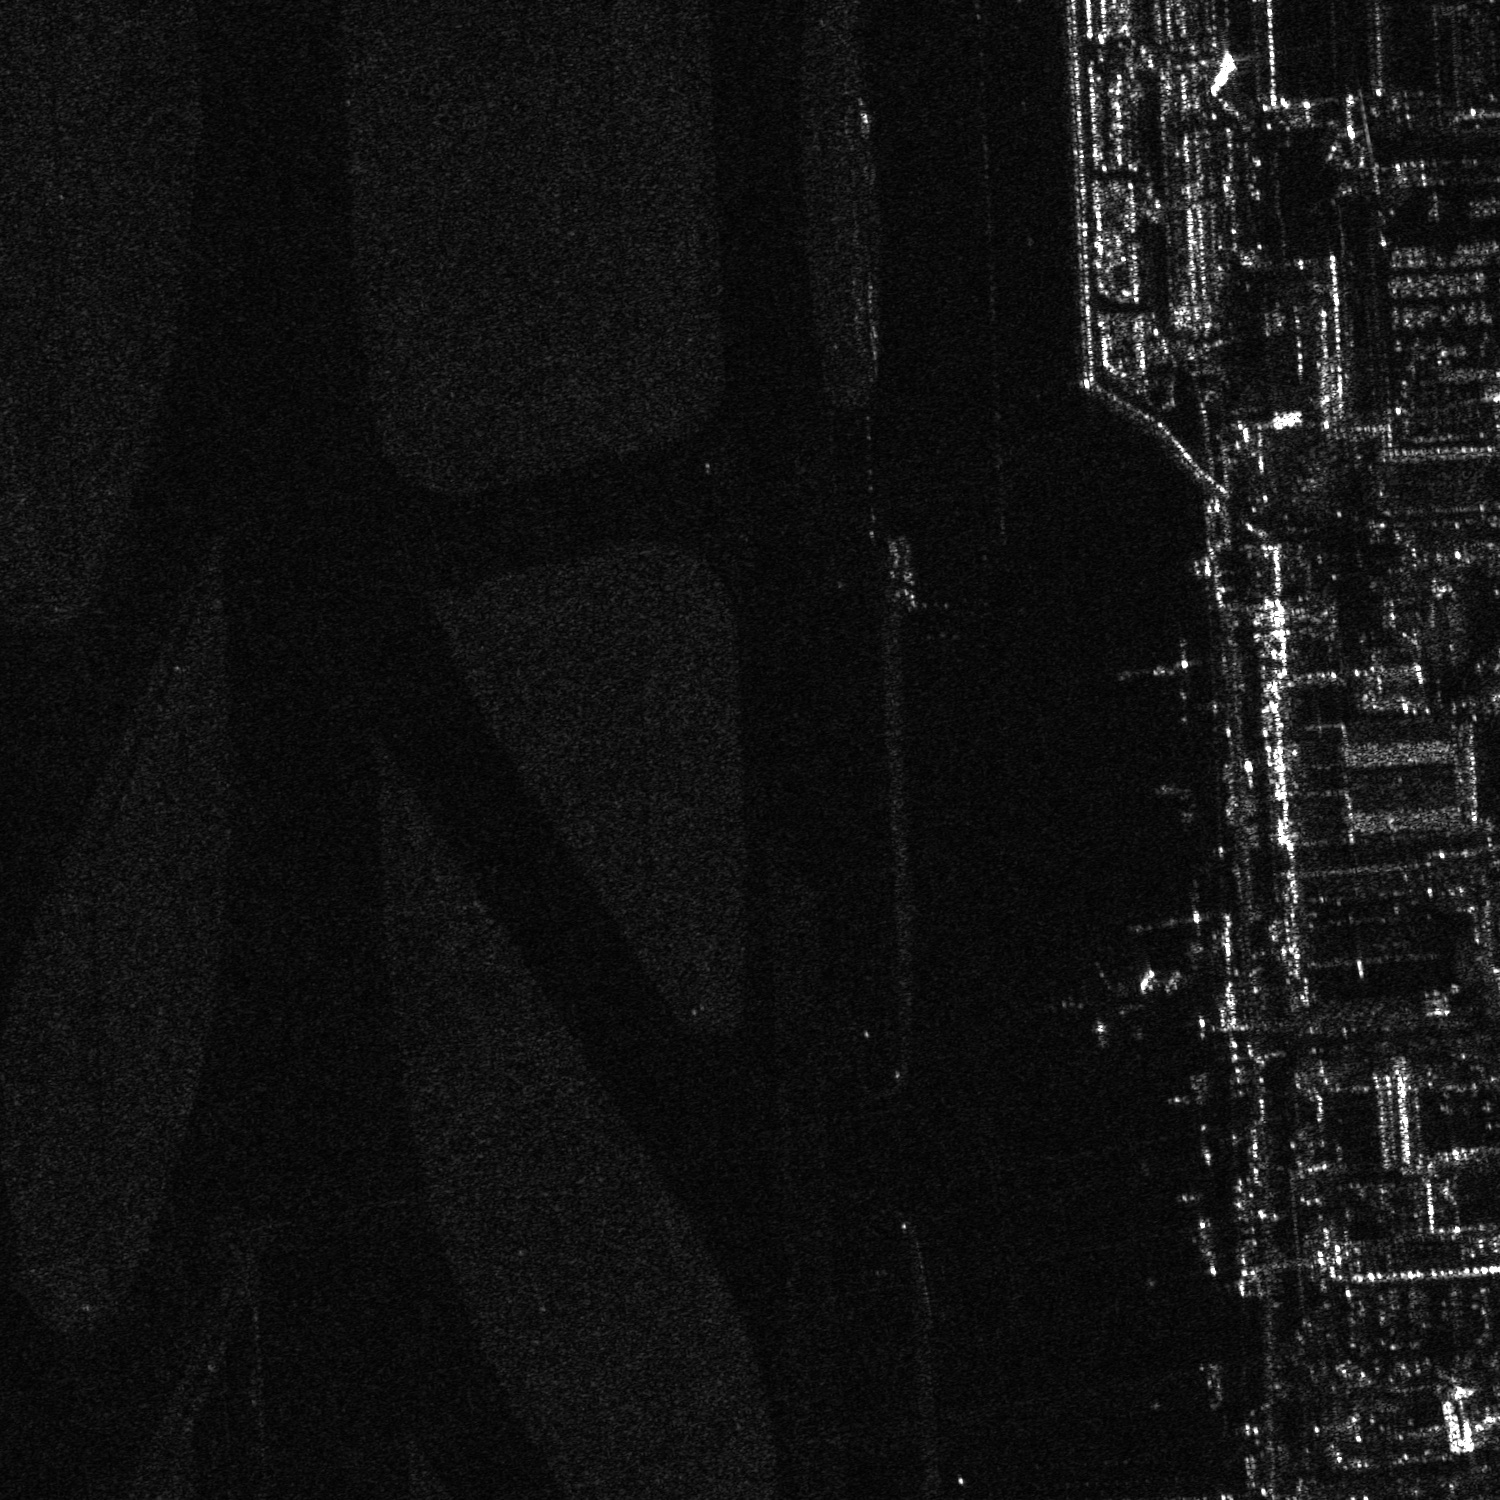A220: (1043, 951, 1177, 1055)
